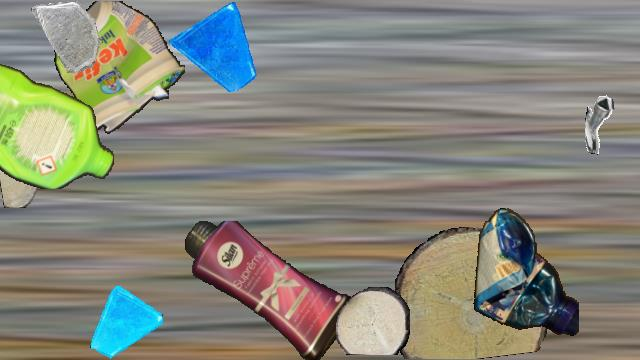glass: (169, 1, 259, 91), (88, 285, 162, 359), (31, 1, 103, 73)
metal: (585, 95, 640, 157)
plastic: (184, 221, 356, 359), (53, 1, 185, 139), (0, 56, 115, 188), (470, 206, 578, 342)
wood: (391, 227, 551, 359), (336, 287, 410, 355), (0, 134, 37, 208)
